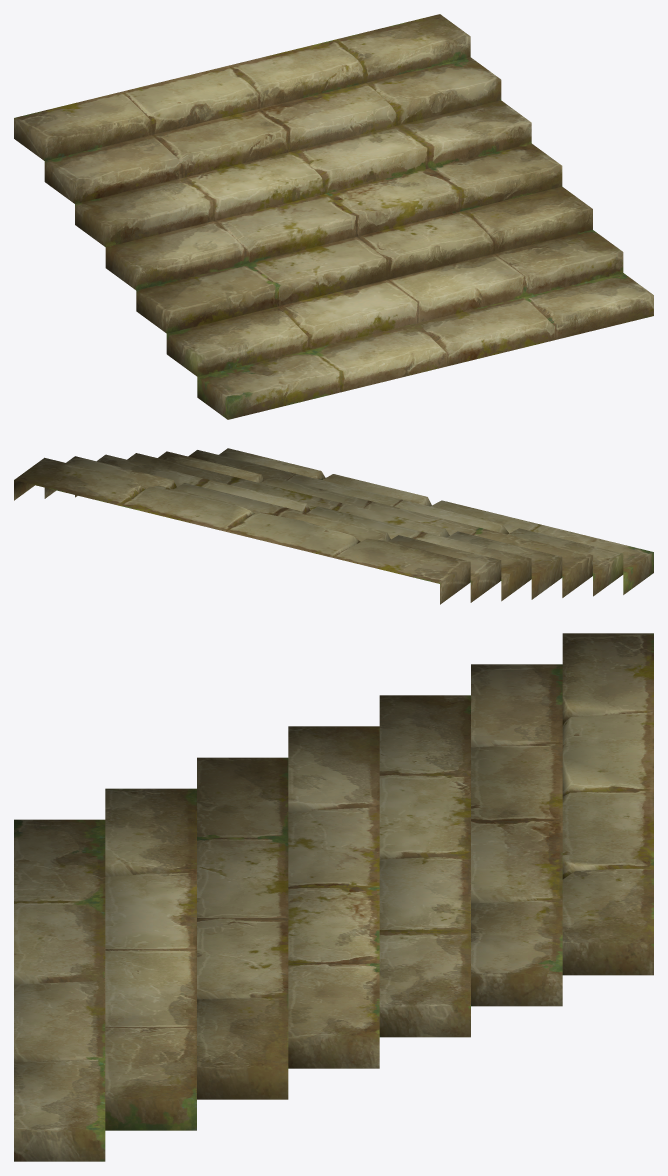
File: Stairs1.fbx
3 views of the same model, one above another, from view 1: azimuth 30°, elevation 25°; view 2: azimuth 150°, elevation 25°; view 3: azimuth 270°, elevation 25° (orthographic). The views are drawn at different scales.
Parts seen in each view (by area): view 1: SM_a_001_Stairs_01a; view 2: SM_a_001_Stairs_01a; view 3: SM_a_001_Stairs_01a.
Boxes of the visible parts, <box> form: SM_a_001_Stairs_01a: <box>14,14,653,419</box>; SM_a_001_Stairs_01a: <box>14,448,653,604</box>; SM_a_001_Stairs_01a: <box>14,633,653,1161</box>.
Size of the model in its own units: 322 by 105 by 280.
